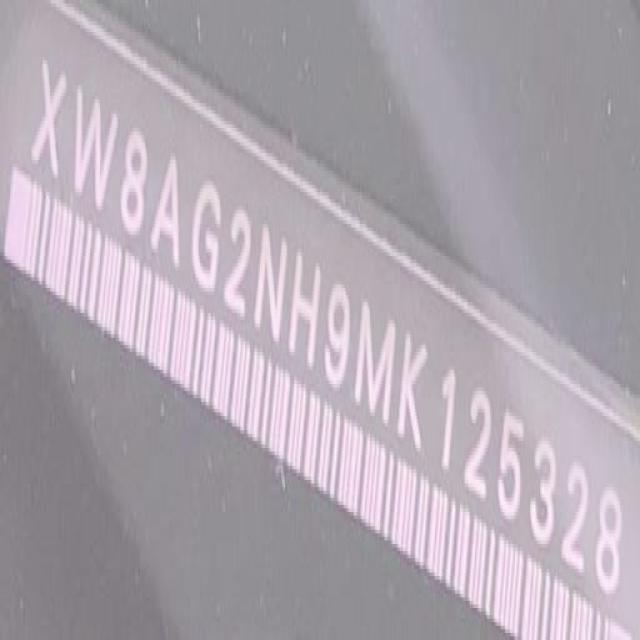1: (431, 351, 458, 487)
2: (456, 372, 496, 510), (558, 452, 594, 584), (220, 197, 254, 330)
3: (525, 429, 561, 560)
5: (496, 403, 525, 529)
8: (592, 476, 630, 612), (115, 124, 152, 249)
9: (323, 274, 352, 399)
A: (148, 145, 188, 275)
G: (187, 170, 227, 304)
H: (285, 242, 325, 378)
K: (395, 328, 429, 463)
M: (352, 293, 398, 437)
N: (252, 216, 293, 360)
W: (69, 75, 121, 223)
X: (26, 53, 74, 192)
